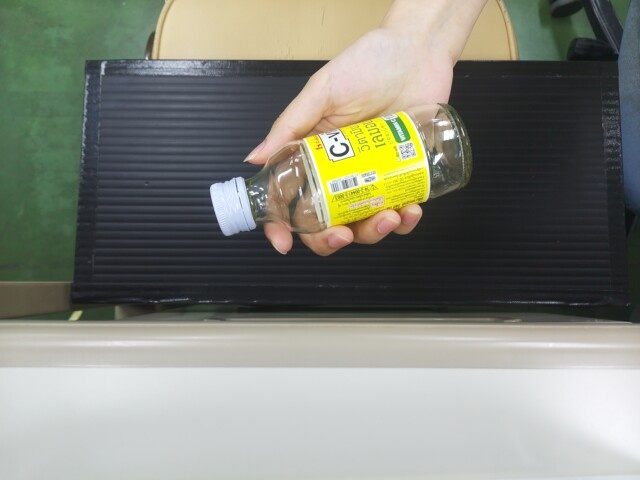glass_bottle: (205, 109, 470, 230)
